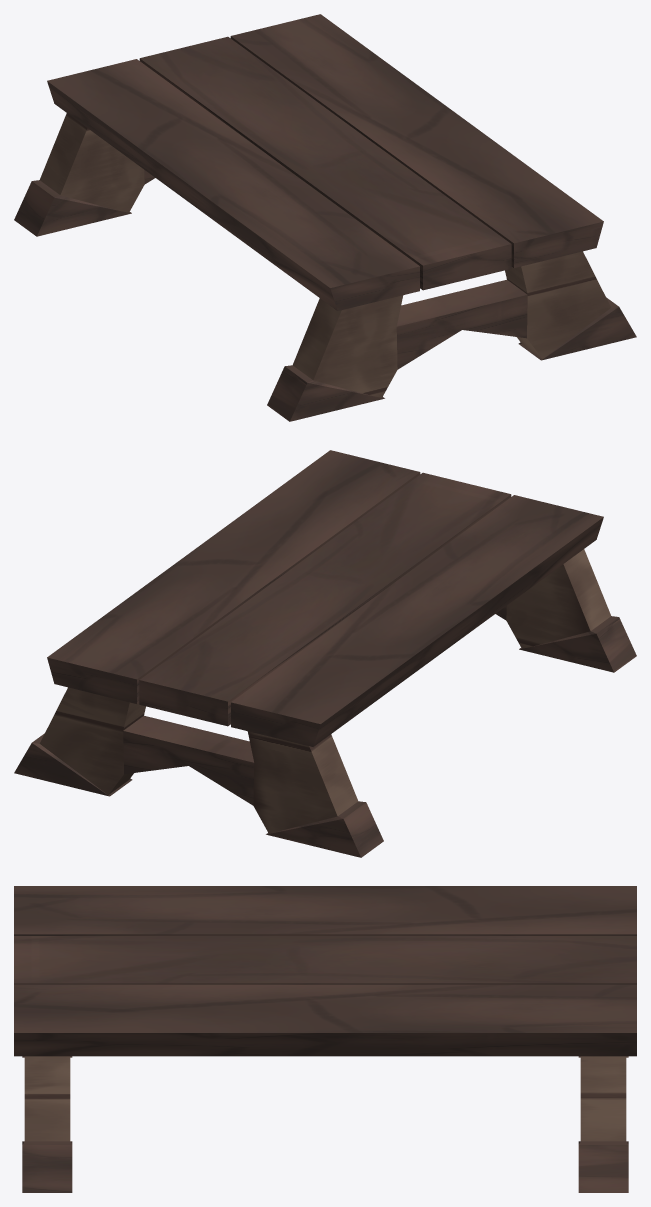
The model's file is Table 01.fbx.
3 renders of one model, top to bottom at view 1: azimuth 30°, elevation 25°; view 2: azimuth 150°, elevation 25°; view 3: azimuth 270°, elevation 25°, orthographic. The views are drawn at different scales.
Visible parts, largest first — view 1: Table 01; view 2: Table 01; view 3: Table 01.
Part boxes in pixels (left/top/right/bottom): Table 01: left=14, top=14, right=636, bottom=421; Table 01: left=14, top=450, right=636, bottom=857; Table 01: left=14, top=886, right=636, bottom=1192.
Bounding box in the file's own units: 303 × 106 × 428.
